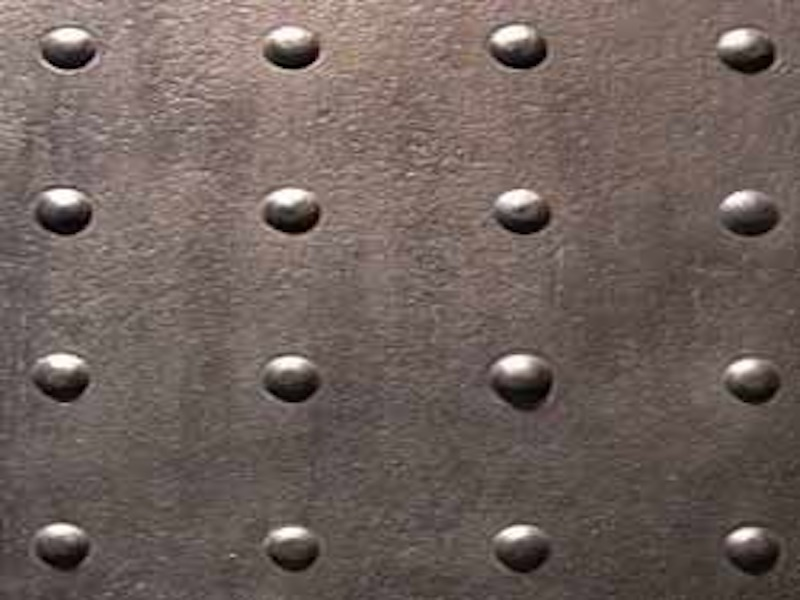rivet: (482, 348, 558, 416), (256, 185, 328, 242), (719, 521, 787, 581), (488, 520, 556, 576), (257, 351, 325, 407), (712, 187, 782, 239), (484, 20, 552, 73), (30, 519, 95, 574), (29, 351, 95, 405), (718, 355, 785, 408), (31, 185, 98, 238), (258, 22, 326, 73), (713, 24, 778, 75), (261, 525, 324, 577), (490, 187, 554, 238), (36, 24, 101, 74)
